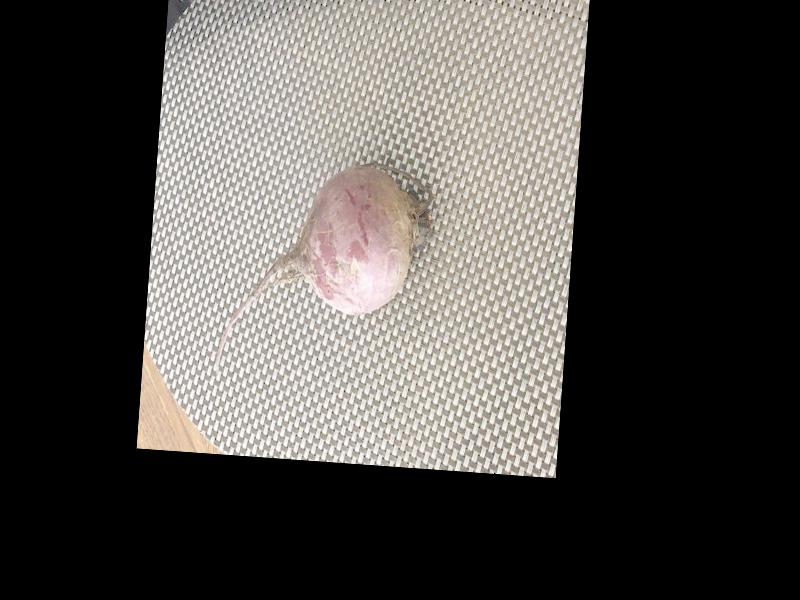Beet: (213, 154, 437, 385)
